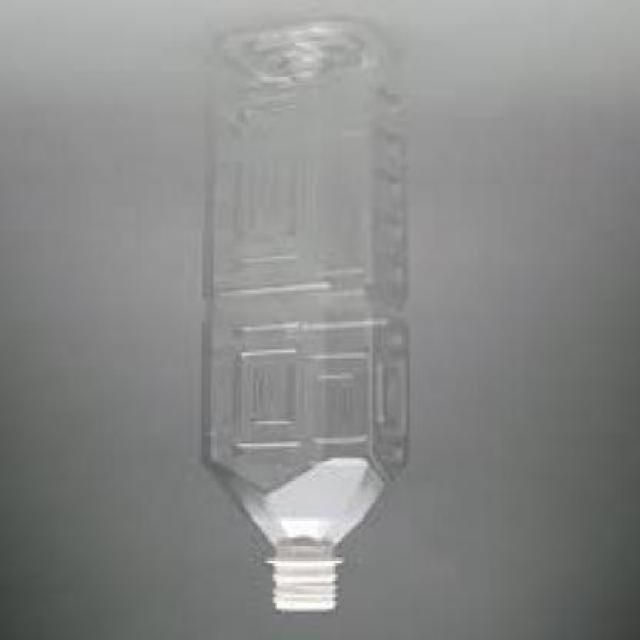PLASTIC: (191, 20, 409, 614)
